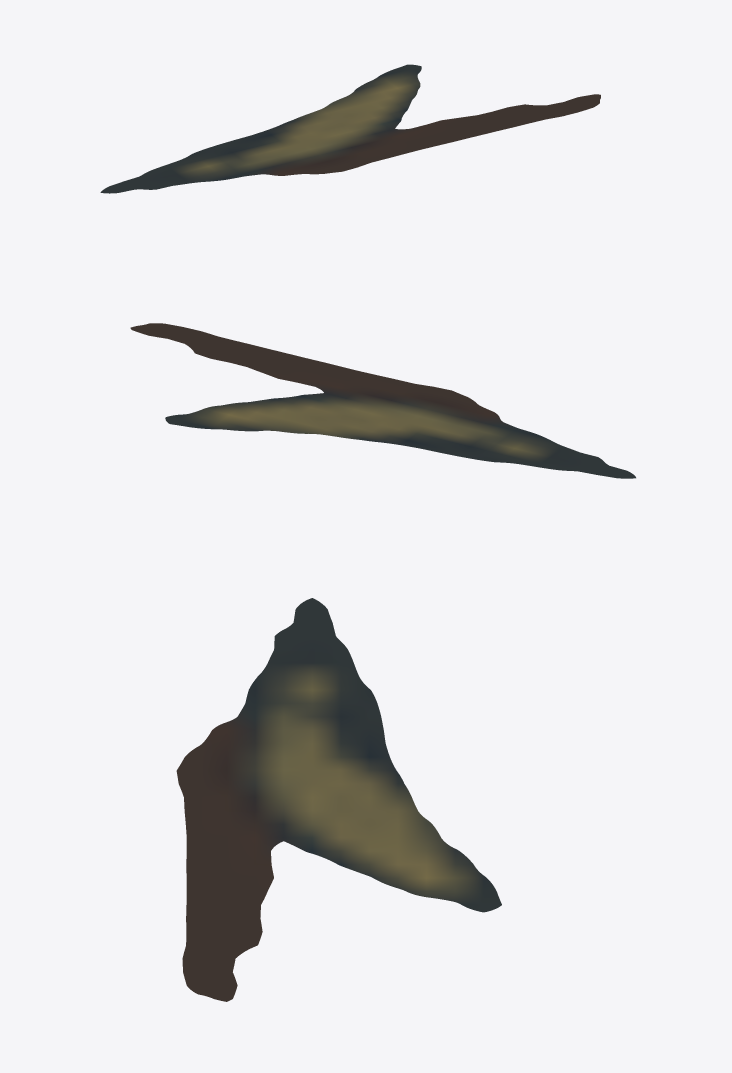
The model's file is HuBian_NighYezi6_fbx.FBX.
The picture shows the model from 3 angles, top to bottom: view 1: azimuth 30°, elevation 25°; view 2: azimuth 150°, elevation 25°; view 3: azimuth 270°, elevation 25°; orthographic projection. The views are drawn at different scales.
Parts seen in each view (by area): view 1: Object069; view 2: Object069; view 3: Object069.
Boxes of the visible parts, x1,y1,x2,y2 form: Object069: (100,64,600,193); Object069: (130,323,635,478); Object069: (176,598,501,1001).
Size of the model in its own units: 0.275 by 6.92e-09 by 0.1582.
Materials: 1 (1 with a texture image).
